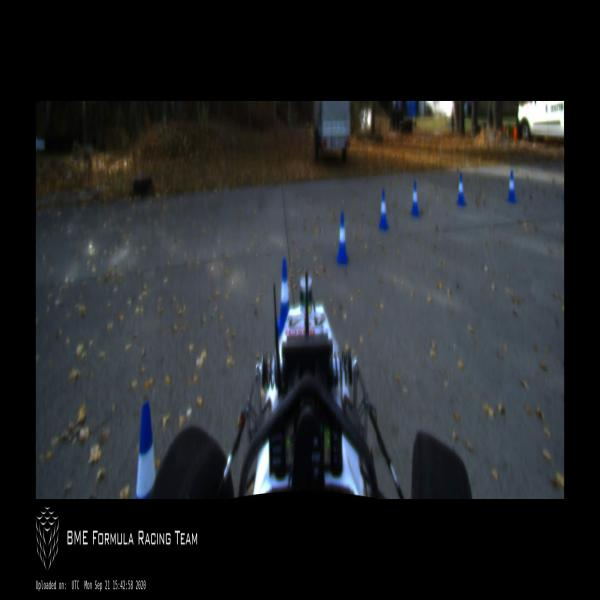blue_cone: (135, 402, 156, 499), (277, 257, 289, 334), (337, 213, 349, 264), (379, 188, 388, 230), (411, 181, 420, 216), (507, 171, 517, 202), (457, 173, 466, 205)
